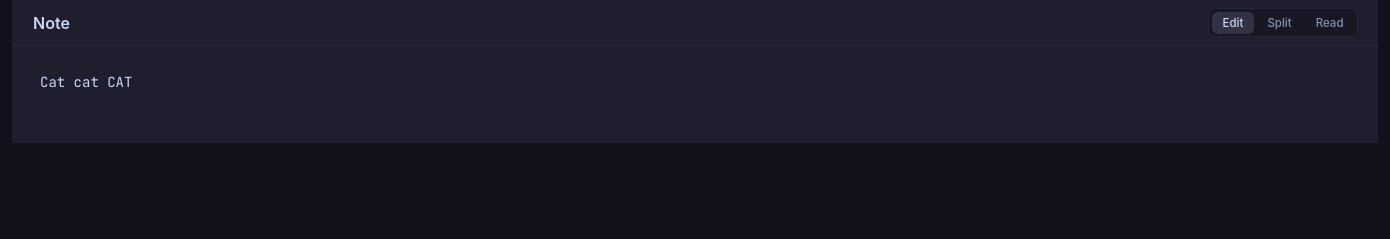
Test case: Find bar (#547) › matches case only when Aa is on
Press f
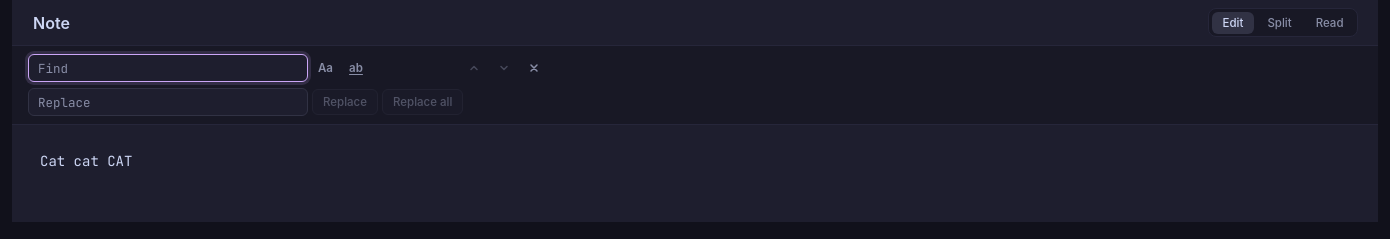
Type "cat" into the field labelled "Find". click: [168, 68]
box: [28,54,308,82]
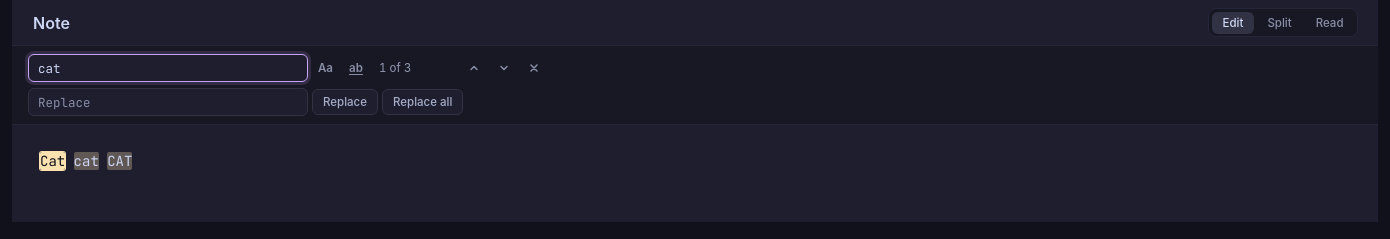
Result: the text with class "find-bar-count" reads "1 of 3" at [379,61,411,75]
Click the button with aria-label "Match case". click: [326, 68]
box: [312,55,339,81]
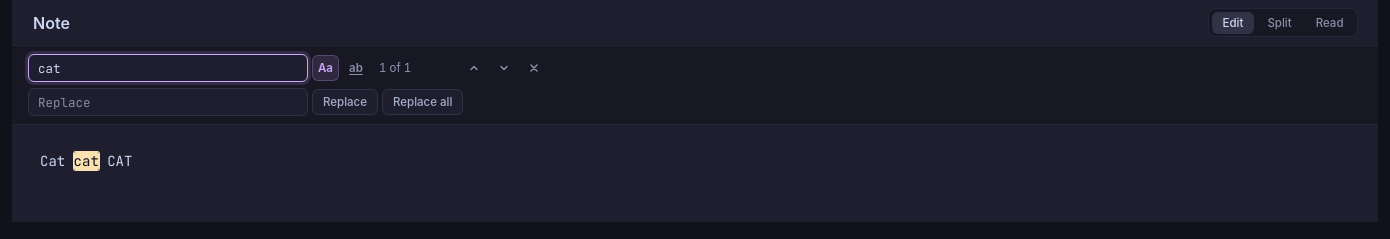
Result: the text with class "find-bar-count" reads "1 of 1" at [379,61,411,75]
